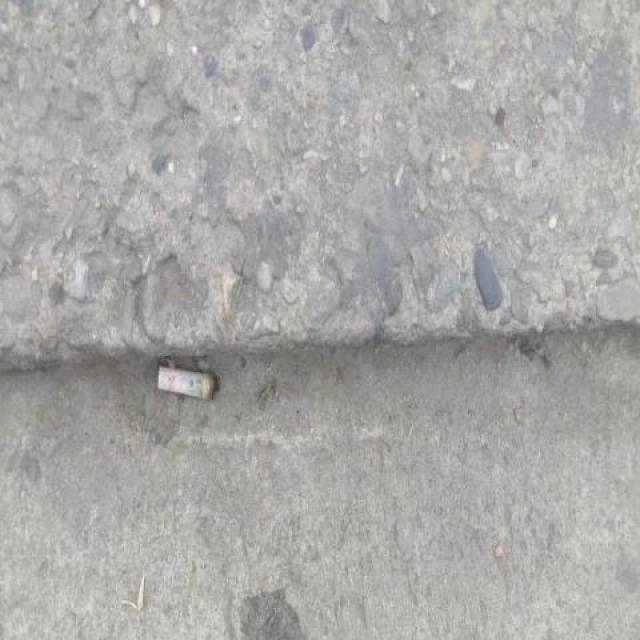non-organic waste: (151, 361, 221, 406)
